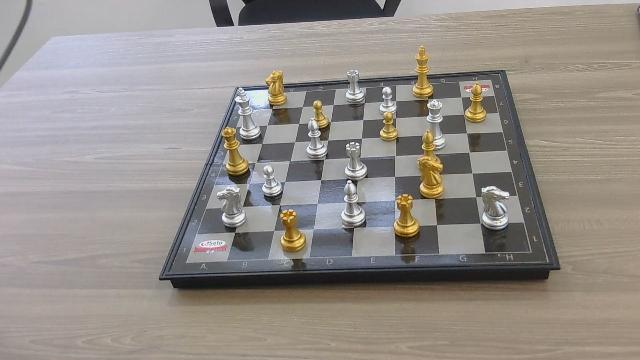black_bishop: (464, 83, 489, 123), (420, 128, 436, 156)
black_king: (413, 43, 435, 99)
black_knight: (417, 156, 445, 199), (264, 69, 288, 107)
black_pawn: (379, 111, 400, 143), (312, 100, 332, 131)
black_queen: (221, 125, 240, 174)
black_rook: (278, 209, 307, 253), (394, 193, 421, 239)
white_bishop: (341, 179, 368, 227), (306, 119, 326, 159)
white_king: (236, 83, 261, 138)
white_knight: (480, 184, 513, 231), (216, 182, 249, 228)
white_pawn: (262, 164, 285, 198), (380, 86, 396, 113)
white_queen: (427, 98, 444, 130)
white_rook: (344, 141, 369, 180), (345, 69, 366, 102)
